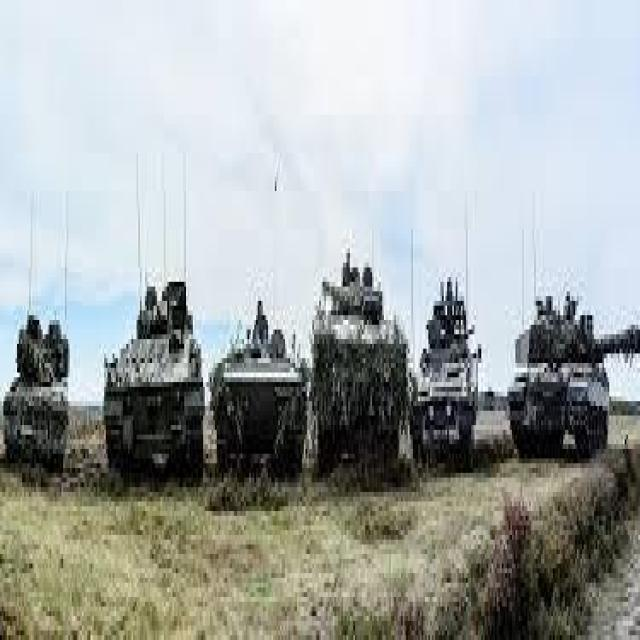MIL_MBT: (94, 279, 201, 485), (508, 287, 615, 478), (313, 277, 399, 487), (207, 315, 310, 487), (6, 310, 74, 482), (416, 310, 481, 463)
